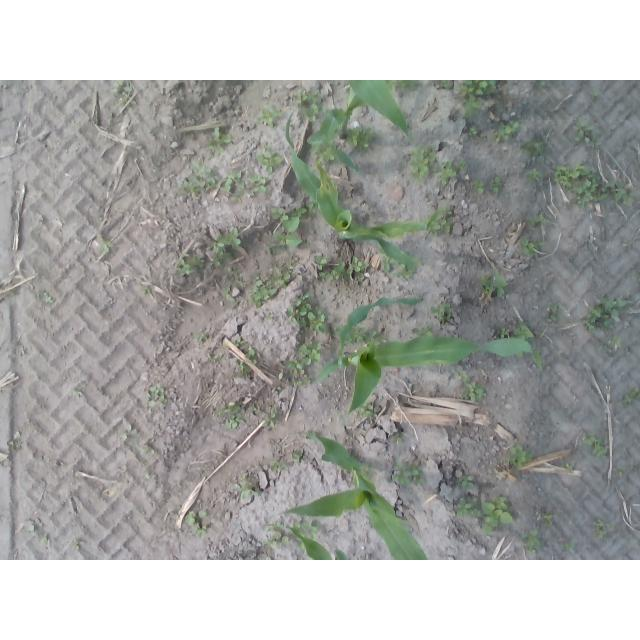Maize: (316, 297, 542, 414), (284, 111, 440, 268), (276, 432, 429, 561), (307, 80, 411, 176), (259, 524, 349, 561)
Weeds: (181, 159, 267, 203), (250, 264, 292, 308), (285, 297, 327, 334), (590, 299, 626, 327), (273, 216, 303, 247), (575, 169, 599, 204), (295, 91, 321, 122), (483, 270, 509, 299), (206, 127, 232, 155), (482, 503, 513, 526), (256, 151, 285, 175), (407, 149, 429, 179), (175, 254, 204, 274), (319, 258, 345, 280), (509, 445, 534, 467), (573, 121, 596, 144), (435, 162, 457, 186), (460, 81, 496, 95), (495, 120, 519, 141), (301, 343, 323, 365), (392, 460, 411, 484), (258, 108, 279, 128), (430, 302, 451, 322), (461, 382, 484, 400), (147, 384, 165, 406), (356, 129, 372, 151), (235, 483, 257, 498), (615, 188, 633, 206), (210, 239, 227, 258), (526, 528, 541, 549), (346, 127, 362, 146), (235, 361, 251, 379), (355, 328, 377, 341), (457, 498, 472, 517), (525, 141, 544, 156), (188, 511, 208, 525), (312, 148, 333, 161), (463, 94, 479, 111), (287, 360, 305, 375), (112, 82, 132, 95), (224, 228, 240, 244), (225, 403, 242, 418), (273, 531, 290, 546), (555, 166, 570, 183), (399, 263, 414, 279), (222, 286, 237, 302), (271, 208, 289, 221), (515, 325, 530, 340), (270, 458, 287, 471), (391, 80, 418, 88), (294, 522, 318, 531), (593, 441, 607, 456), (262, 413, 276, 428), (458, 476, 474, 489), (530, 215, 546, 228), (495, 496, 510, 509), (315, 256, 328, 270), (359, 404, 374, 416), (120, 425, 132, 440), (411, 326, 433, 334), (490, 176, 501, 192), (411, 460, 422, 476), (522, 239, 534, 253), (351, 258, 363, 272), (472, 179, 484, 193), (625, 390, 637, 404), (244, 350, 256, 364), (381, 256, 391, 272), (550, 304, 559, 321), (457, 371, 470, 382), (531, 168, 541, 182), (292, 208, 307, 217), (42, 293, 54, 304), (614, 465, 626, 476), (235, 337, 247, 348), (572, 163, 584, 174), (440, 220, 450, 233), (431, 223, 441, 236), (141, 446, 155, 455), (601, 180, 611, 192), (583, 319, 595, 329), (611, 334, 621, 346), (481, 524, 493, 534), (196, 330, 208, 340), (291, 450, 302, 460), (414, 478, 426, 487), (226, 420, 239, 428), (394, 433, 403, 444), (442, 80, 454, 88), (584, 436, 596, 444), (207, 354, 219, 362), (26, 520, 34, 532), (596, 195, 609, 202), (146, 473, 159, 480), (501, 328, 511, 337), (471, 510, 481, 519), (545, 514, 554, 524), (40, 533, 48, 544), (429, 149, 436, 161), (455, 161, 467, 168), (390, 258, 399, 267), (211, 258, 221, 266), (142, 286, 152, 294), (105, 243, 113, 252), (468, 128, 477, 136), (598, 530, 607, 538), (565, 542, 574, 550), (594, 519, 603, 527), (304, 376, 313, 384), (218, 408, 227, 416), (241, 474, 250, 482), (591, 88, 600, 96), (533, 243, 543, 250), (73, 539, 80, 549), (604, 346, 612, 354), (472, 495, 480, 503), (263, 142, 270, 151), (265, 312, 274, 319), (73, 391, 82, 398), (198, 527, 207, 534), (563, 181, 572, 188), (565, 463, 575, 469), (279, 369, 285, 379), (293, 380, 303, 385), (529, 549, 536, 555), (577, 196, 582, 204), (277, 385, 283, 391), (541, 82, 546, 87)
